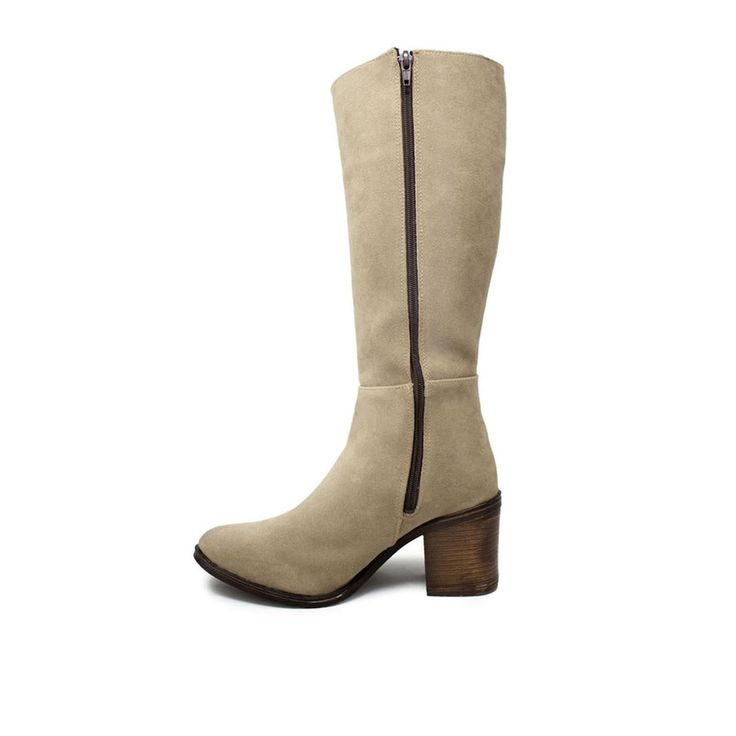gamuza: (197, 49, 507, 595)
